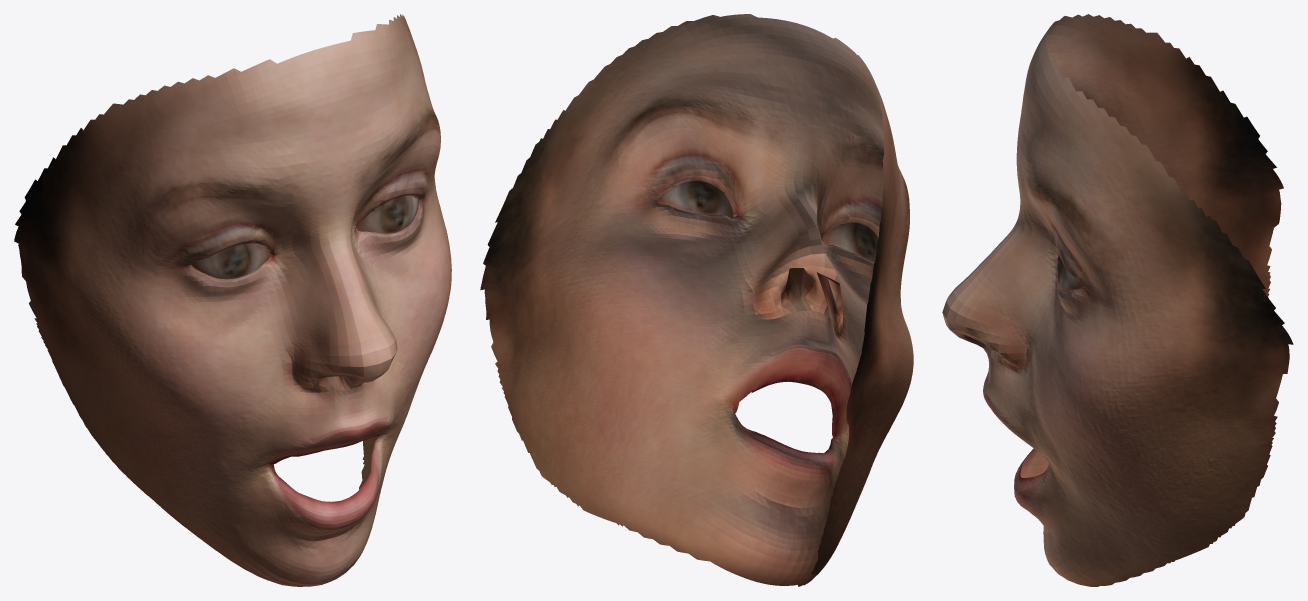
File: surprise2_mesh.obj
3 views of the same model, side by side, from view 1: azimuth 30°, elevation 25°; view 2: azimuth 150°, elevation 25°; view 3: azimuth 270°, elevation 25° (orthographic). The views are drawn at different scales.
Size of the model in its own units: 1.28 by 1.81 by 1.09.
